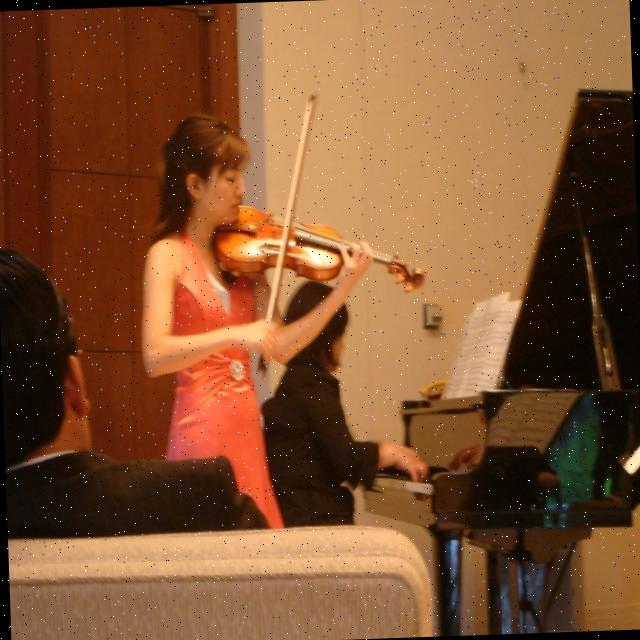violin: (206, 196, 426, 300)
